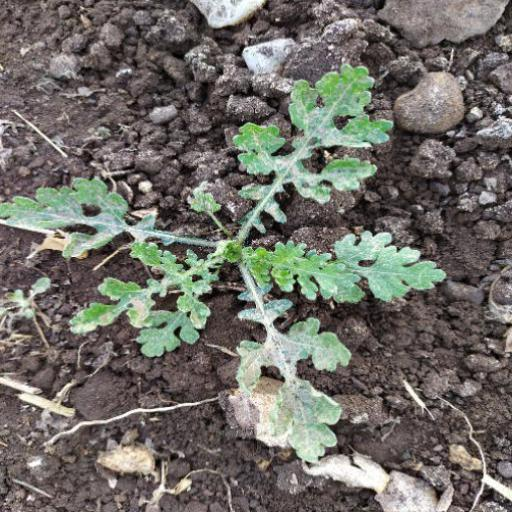weed: (4, 61, 453, 460)
